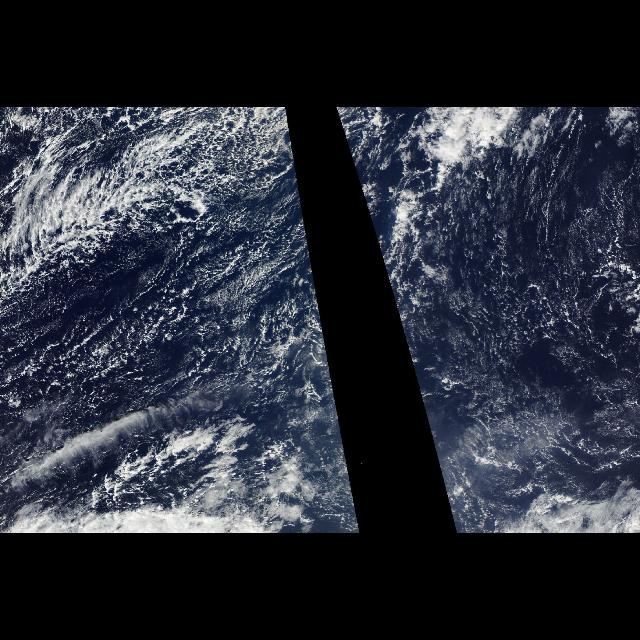Gravel: (16, 118, 300, 286)
Sugar: (460, 180, 618, 414)
